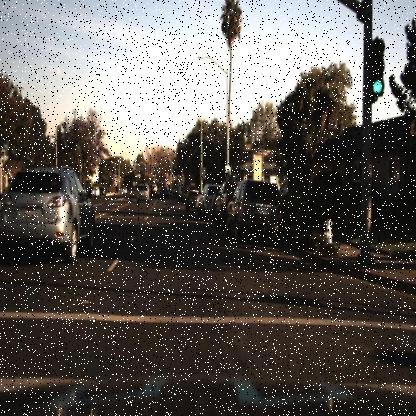car: (1, 155, 96, 287), (0, 167, 97, 269), (226, 176, 286, 250), (212, 180, 232, 224), (197, 178, 220, 216), (213, 179, 228, 225), (199, 182, 214, 220), (158, 183, 172, 202), (136, 182, 148, 204), (158, 184, 172, 202)
